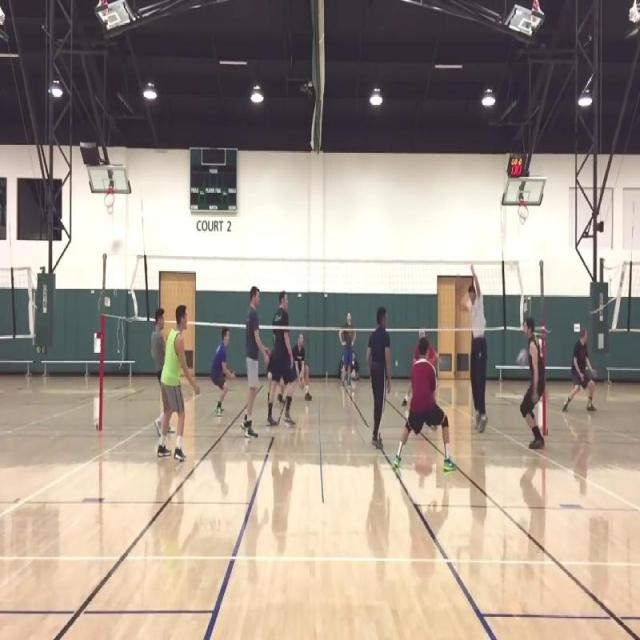volleyball: (517, 350, 528, 367)
